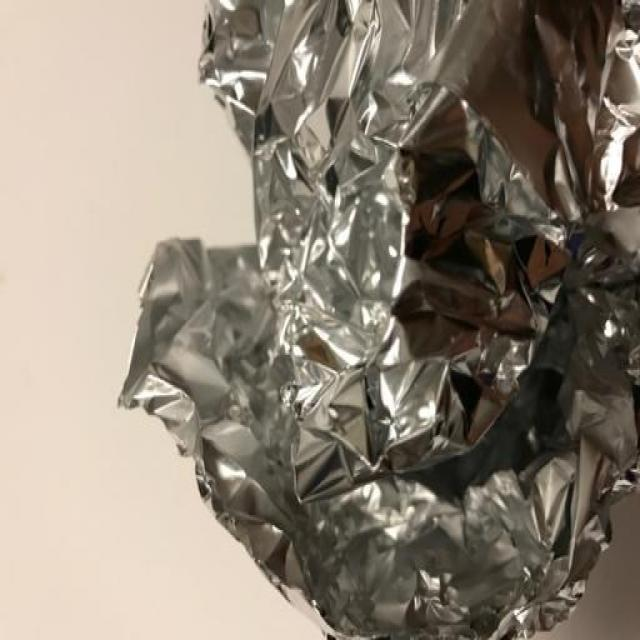plastic_bag: (76, 1, 640, 640)
